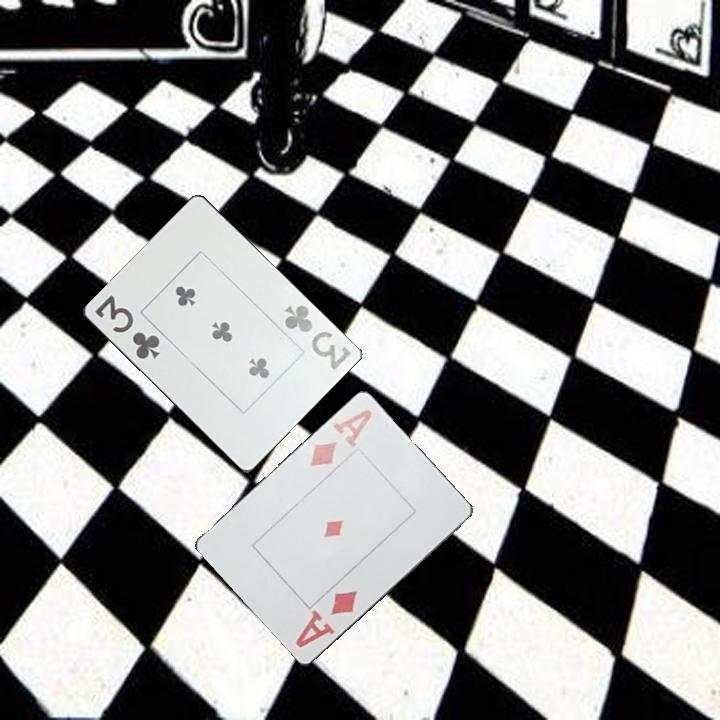3c: (280, 301, 354, 373), (91, 291, 163, 362)
Ad: (292, 586, 361, 651), (306, 406, 375, 470)
